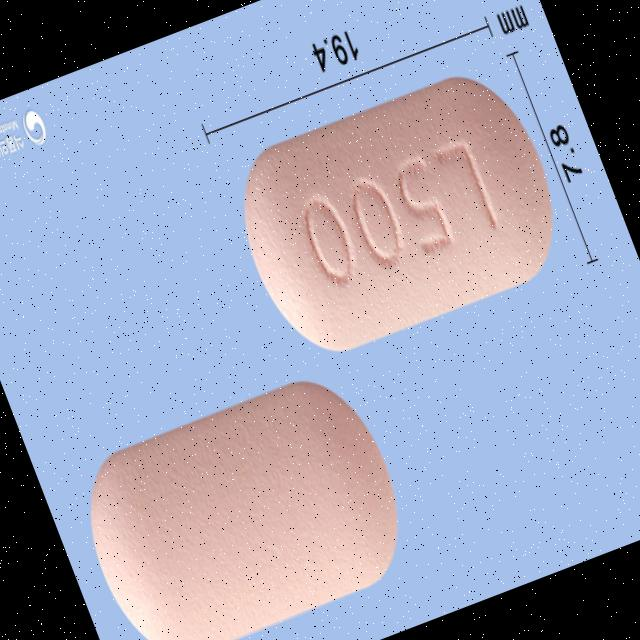Levoby: (217, 58, 581, 374), (62, 359, 428, 640)
